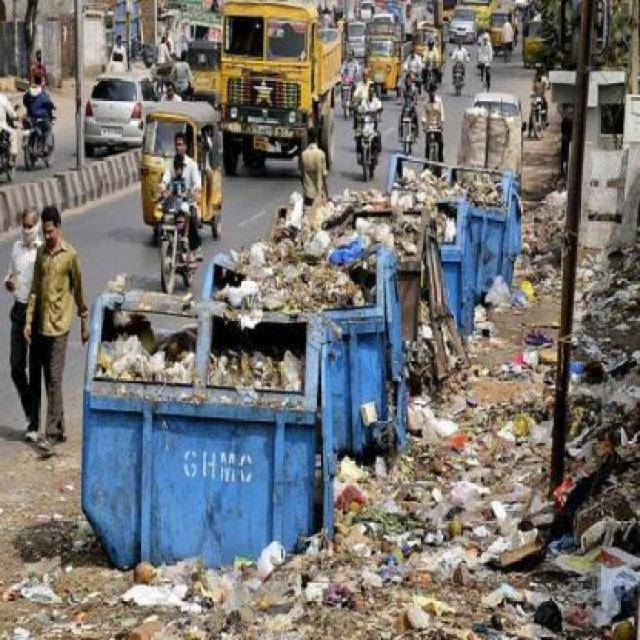garbage: (423, 251, 633, 635), (96, 534, 412, 638), (97, 291, 312, 408), (211, 195, 382, 310), (337, 334, 420, 533), (386, 165, 517, 250), (519, 176, 576, 252)
